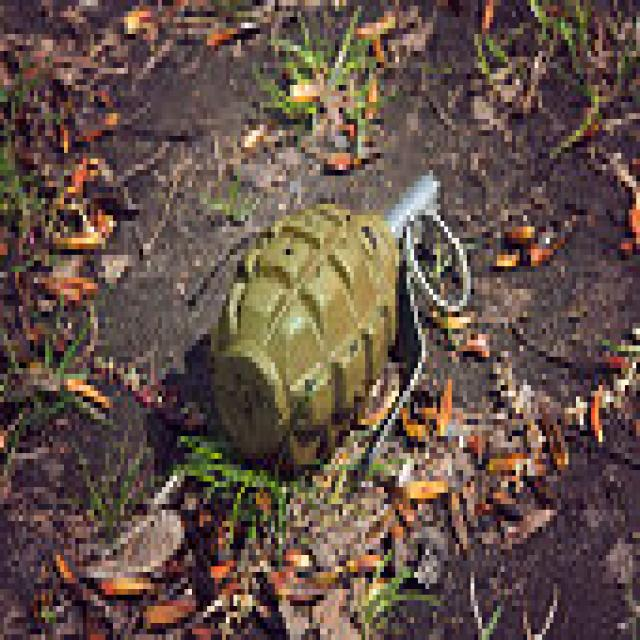grenade: (208, 165, 476, 490)
